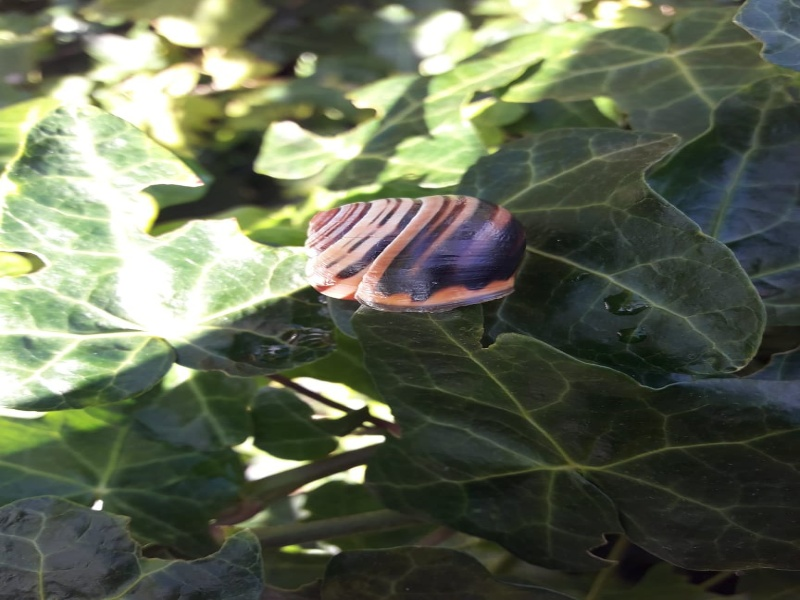snail_P_B: (300, 191, 540, 318)
